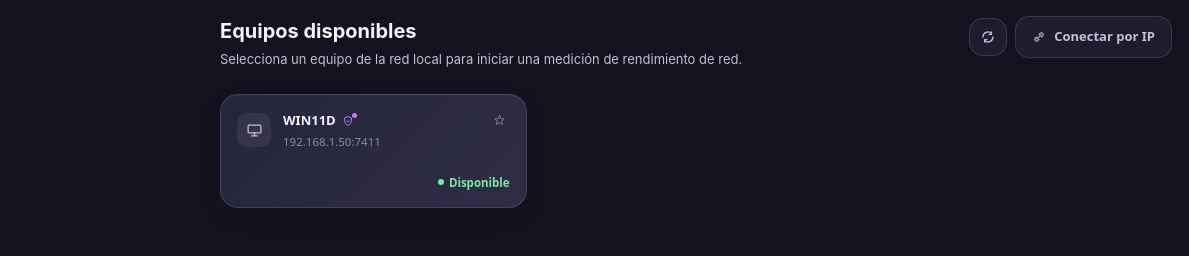
Inicio: menú contextual de un equipo › el clic derecho abre un menú con las cinco acciones
Right-click the list item at (373, 151), box [220,94,527,208]
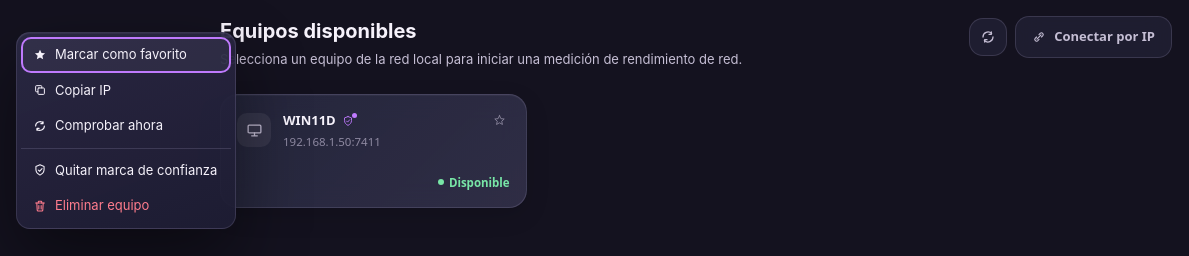
Expected: the menu items read "Marcar como favorito", "Copiar IP", "Comprobar ahora", "Quitar marca de confianza", "Eliminar equipo", in this order, [21,37,231,72]; [21,72,231,108]; [21,108,231,144]; [21,152,231,188]; [21,188,231,224]
